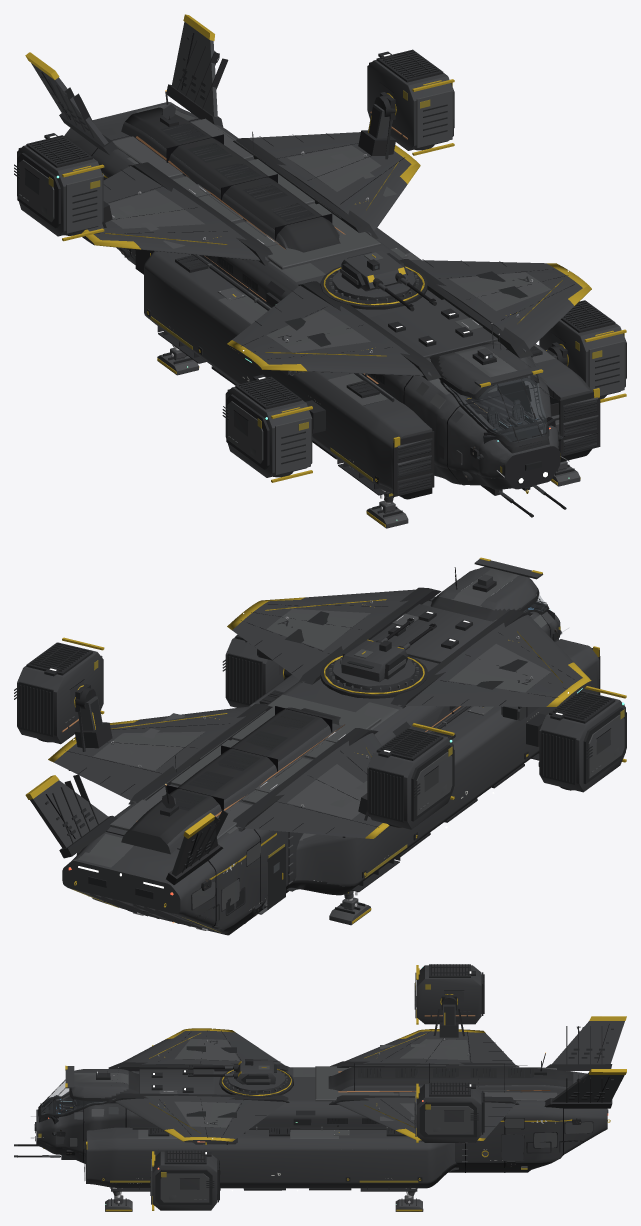
The model's file is HarpyieFern.397f0531d1.glb.
3 renders of one model, top to bottom at view 1: azimuth 30°, elevation 25°; view 2: azimuth 150°, elevation 25°; view 3: azimuth 270°, elevation 25°, orthographic. The views are drawn at different scales.
Visible parts, largest first — view 1: Dachpanzer.004, Andockring.006, Dachpanzer.005, Bugstirn.001, Auslegerholm.004, Behaeltergitter.002, Kanzelglas.001, Gondelklappe.010, Duesenschaufel.112, Duesenschaufel.096, Andockkern.006, Einlassschlitz.006 (+18 smaller); view 2: Dachpanzer.004, Dachpanzer.005, Andockring.006, Bugstirn.001, Auslegerholm.004, Behaeltergitter.002, Gondelklappe.010, Andockkern.006, Auslassrahmen.006, Auslassrahmen.007, Gondelklappe.012, Gondelklappe.014 (+14 smaller); view 3: Dachpanzer.004, Andockring.006, Dachpanzer.005, Bugstirn.001, Auslegerholm.004, Gondelklappe.014, Behaeltergitter.002, Andockkern.006, Gondelklappe.008, Gondelklappe.010, Duesenschaufel.064, Duesenschaufel.080 (+11 smaller).
Boxes of the visible parts, box(x1,y1,x2,y2) form: Dachpanzer.004: box(64, 102, 592, 489); Andockring.006: box(40, 37, 600, 517); Dachpanzer.005: box(108, 102, 555, 405); Bugstirn.001: box(97, 107, 591, 499); Auslegerholm.004: box(31, 22, 598, 503); Behaeltergitter.002: box(58, 68, 596, 494); Kanzelglas.001: box(375, 266, 562, 458); Gondelklappe.010: box(367, 59, 453, 150); Duesenschaufel.112: box(18, 159, 102, 233); Duesenschaufel.096: box(227, 401, 310, 474); Andockkern.006: box(60, 51, 547, 478); Einlassschlitz.006: box(157, 326, 596, 495); Dachpanzer.004: box(53, 566, 599, 931); Dachpanzer.005: box(72, 568, 550, 867); Andockring.006: box(45, 567, 600, 920); Bugstirn.001: box(81, 594, 599, 935); Auslegerholm.004: box(30, 559, 558, 876); Behaeltergitter.002: box(62, 611, 527, 922); Gondelklappe.010: box(17, 642, 103, 744); Andockkern.006: box(64, 602, 547, 914); Auslassrahmen.006: box(541, 692, 626, 790); Auslassrahmen.007: box(369, 728, 454, 827); Gondelklappe.012: box(539, 690, 625, 792); Gondelklappe.014: box(367, 728, 453, 829); Dachpanzer.004: box(36, 1029, 607, 1183); Andockring.006: box(14, 994, 613, 1190); Dachpanzer.005: box(74, 1039, 556, 1138); Bugstirn.001: box(36, 1038, 573, 1188); Auslegerholm.004: box(42, 1004, 624, 1172); Gondelklappe.014: box(416, 965, 481, 1024); Behaeltergitter.002: box(34, 1046, 608, 1180); Andockkern.006: box(70, 1026, 592, 1162); Gondelklappe.008: box(152, 1151, 217, 1210); Gondelklappe.010: box(416, 1084, 481, 1142); Duesenschaufel.064: box(151, 1159, 209, 1204); Duesenschaufel.080: box(415, 1091, 473, 1136).
Bounding box in the file's own units: 19.69 × 10.18 × 37.56.
